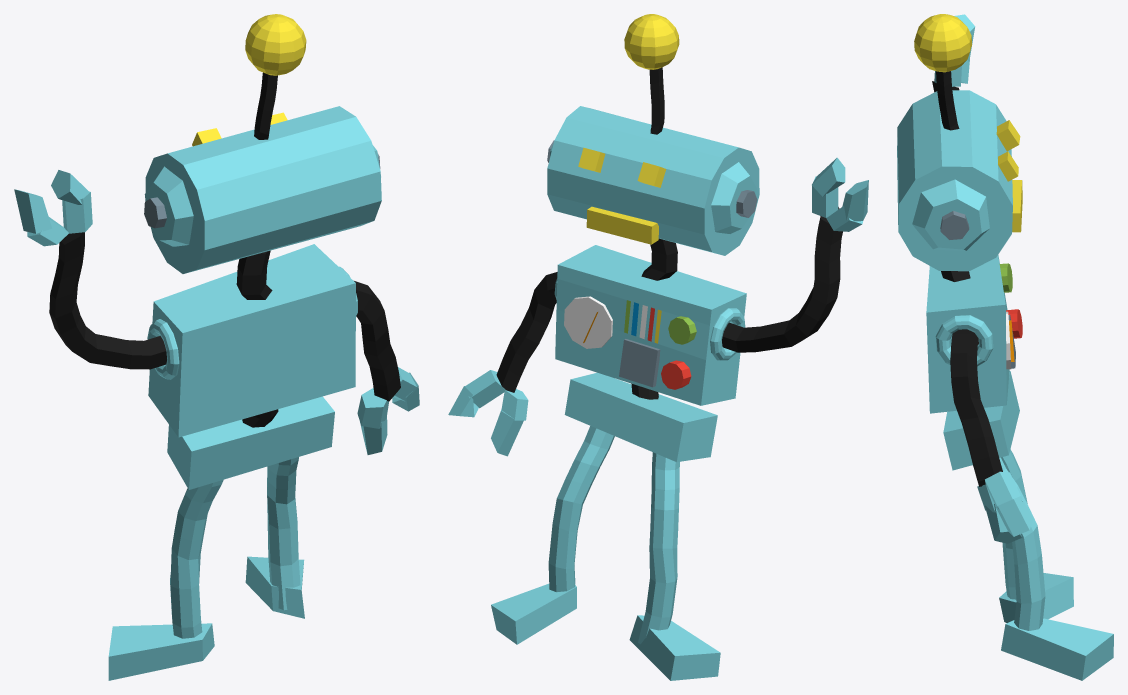
The model's file is hero.glb.
The picture shows the model from 3 angles, left to right: view 1: azimuth 30°, elevation 25°; view 2: azimuth 150°, elevation 25°; view 3: azimuth 270°, elevation 25°; orthographic projection. The views are drawn at different scales.
Visible parts, largest first — view 1: group600498167, group1070545651, group364283973, group480064932, group344224541, group228146491, group1732745239, group651798406, group1491986472, group254030145, group1464701303, group117991533 (+7 smaller); view 2: group1070545651, group600498167, group364283973, group480064932, group344224541, group1732745239, group228146491, group1464701303, group651798406, group1491986472, group1370619006, group254030145 (+13 smaller); view 3: group1070545651, group600498167, group1464701303, group651798406, group20059432, group1732745239, group1491986472, group364283973, group228146491, group502807033, group344224541, group2043360906 (+7 smaller).
Part boxes in pixels (x1,y1,x2,y2): group600498167: (148, 244, 355, 437); group1070545651: (145, 106, 381, 273); group364283973: (167, 396, 334, 489); group480064932: (49, 232, 166, 369); group344224541: (170, 480, 223, 638); group228146491: (108, 623, 214, 680); group1732745239: (267, 457, 300, 610); group651798406: (354, 281, 400, 401); group1491986472: (245, 14, 306, 75); group254030145: (144, 166, 193, 246); group1464701303: (245, 556, 304, 618); group117991533: (236, 250, 272, 299); group1070545651: (547, 106, 759, 255); group600498167: (555, 245, 746, 405); group364283973: (564, 372, 717, 462); group480064932: (722, 207, 842, 352); group344224541: (638, 452, 679, 644); group1732745239: (548, 426, 614, 592); group228146491: (629, 615, 720, 680); group1464701303: (491, 583, 576, 644); group651798406: (496, 272, 557, 392); group1491986472: (624, 14, 679, 69); group1370619006: (564, 296, 612, 348); group254030145: (711, 162, 756, 233); group1070545651: (897, 90, 1012, 271); group600498167: (926, 255, 1009, 413); group1464701303: (1001, 618, 1113, 680); group651798406: (950, 329, 1002, 486); group20059432: (912, 179, 989, 250); group1732745239: (999, 457, 1045, 630); group1491986472: (914, 14, 971, 72); group364283973: (943, 371, 1019, 470); group228146491: (999, 573, 1073, 622); group502807033: (935, 315, 993, 366); group344224541: (1001, 449, 1027, 599); group2043360906: (995, 496, 1032, 536).
Size of the model in its own units: 0.1603 by 0.2377 by 0.0735.
